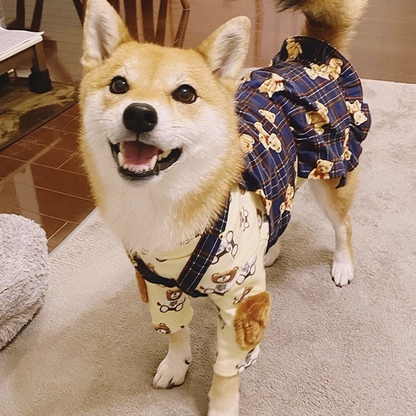shiba: (69, 1, 376, 416)
